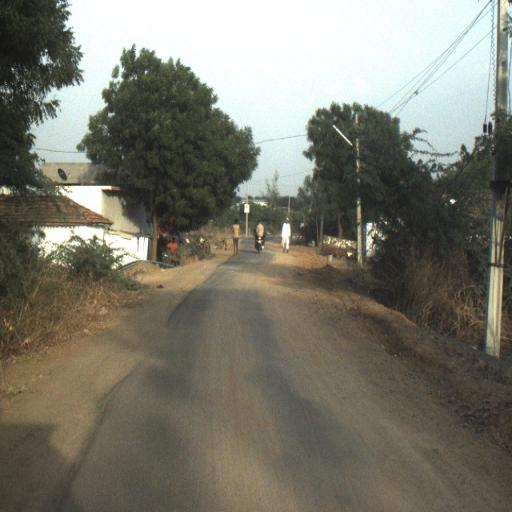street_light_0: (332, 125, 360, 162), (303, 171, 312, 183)
